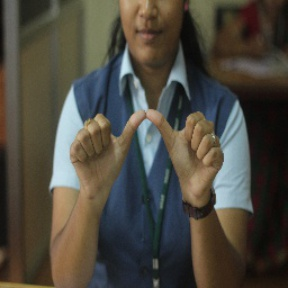A: (73, 105, 218, 186)
